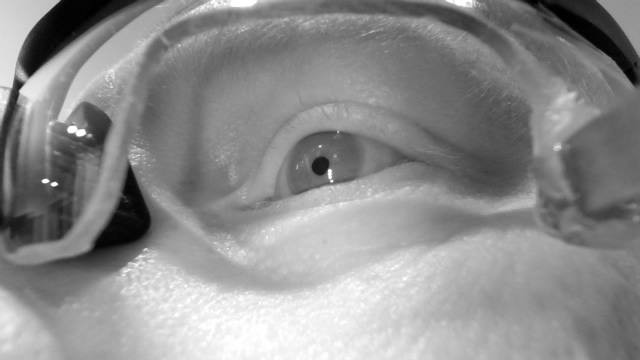pupil: (311, 156, 330, 177)
